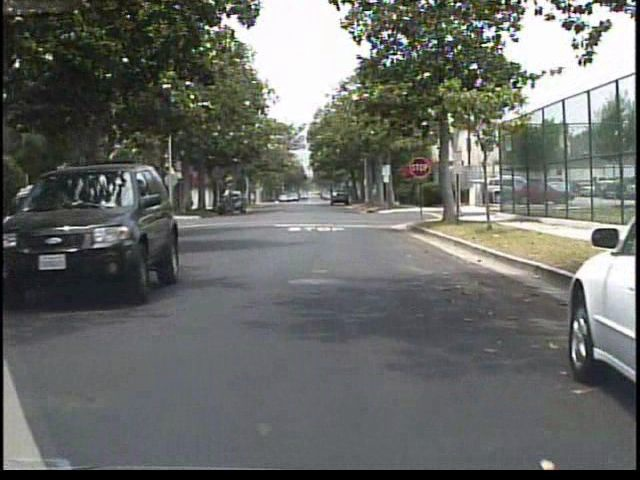person: (223, 180, 244, 221)
